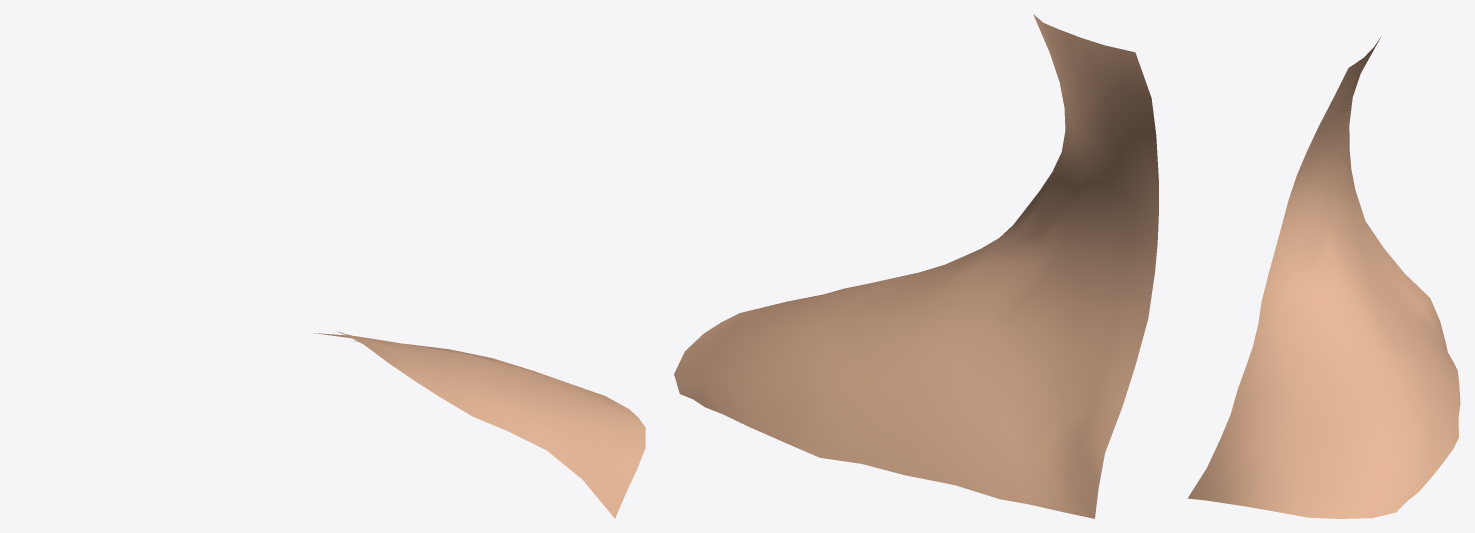
File: posterior-region-of-neck-l.glb
The picture shows the model from 3 angles, left to right: view 1: azimuth 30°, elevation 25°; view 2: azimuth 150°, elevation 25°; view 3: azimuth 270°, elevation 25°; orthographic projection. The views are drawn at different scales.
Visible parts, largest first — view 1: Posterior region of neck.l; view 2: Posterior region of neck.l; view 3: Posterior region of neck.l.
Part boxes in pixels (box(x1,y1,x2,y2)): Posterior region of neck.l: box(314, 330, 645, 518); Posterior region of neck.l: box(674, 14, 1158, 518); Posterior region of neck.l: box(1187, 36, 1460, 518).
Size of the model in its own units: 0.1457 by 0.1317 by 0.0952.
